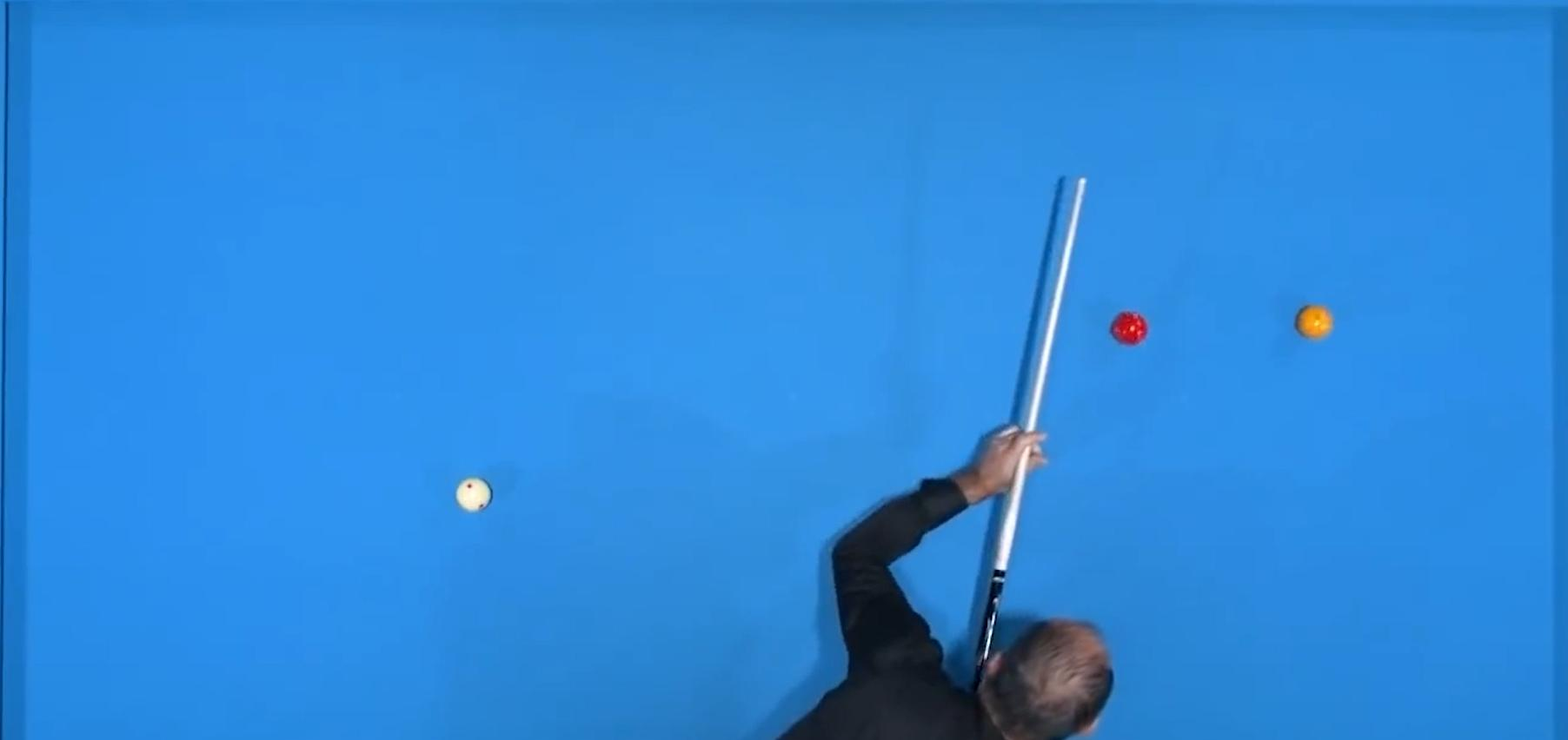red ball: (1111, 309, 1150, 349)
white ball: (452, 474, 494, 516)
yellow ball: (1296, 299, 1334, 342)
